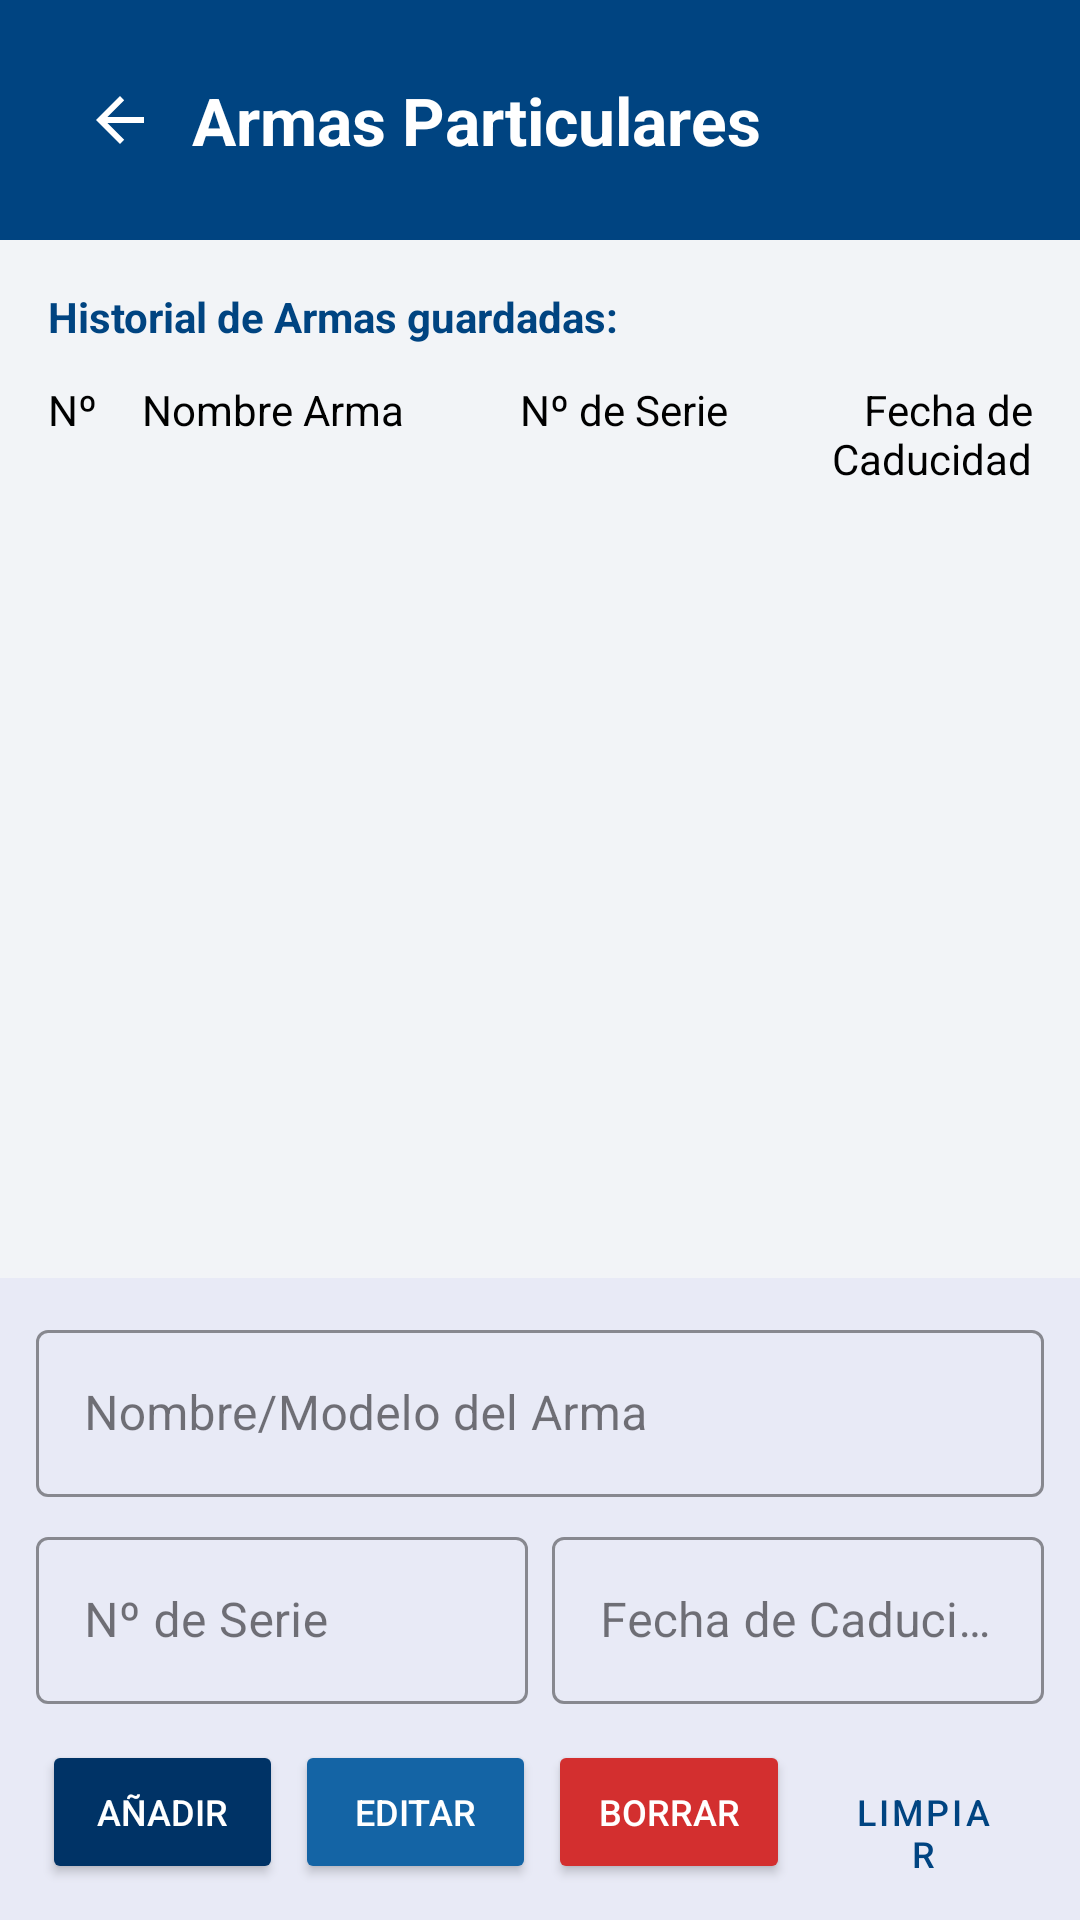

Named icons in this screenshot (1080px×1920px) and their centers, (x,y):
Volver: (120,120)
